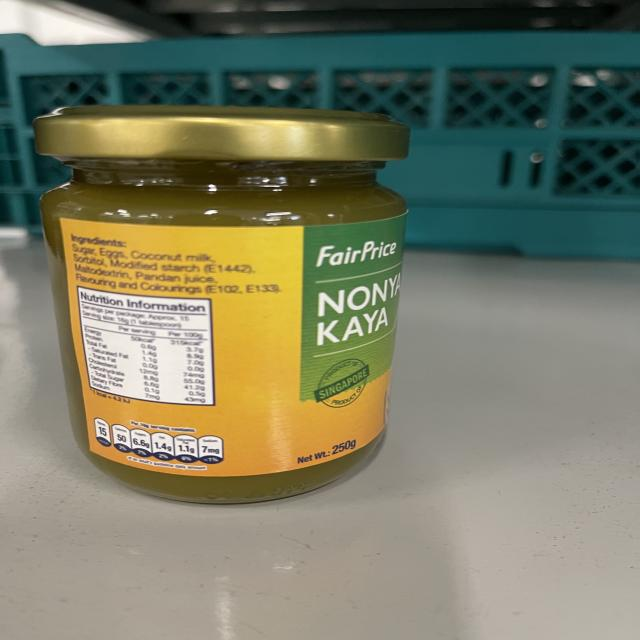object_name: (45, 112, 398, 509)
